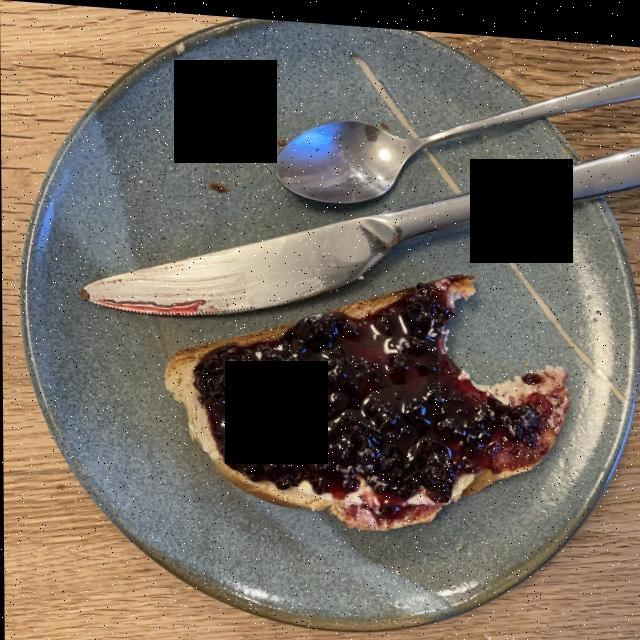bread: (178, 279, 560, 521)
butter: (333, 469, 471, 500)
jam: (195, 286, 547, 510)
